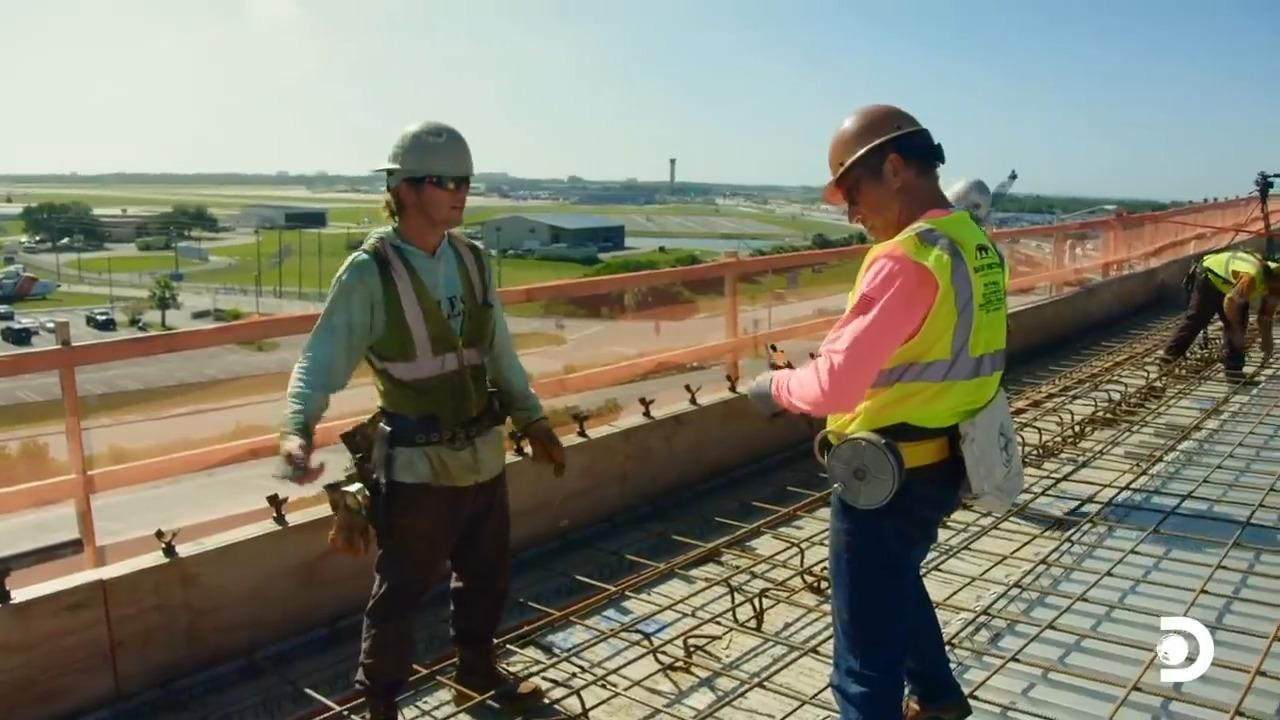Gloves: (737, 363, 786, 430), (519, 420, 574, 479), (273, 432, 326, 487)
Helmet: (827, 103, 941, 185), (370, 120, 474, 189)
Person: (277, 119, 566, 719), (748, 99, 1013, 715), (1158, 247, 1279, 384)
Safety Boot: (449, 667, 537, 708)
Safety Vest: (862, 240, 1002, 433), (361, 244, 483, 420), (1210, 252, 1253, 289)
